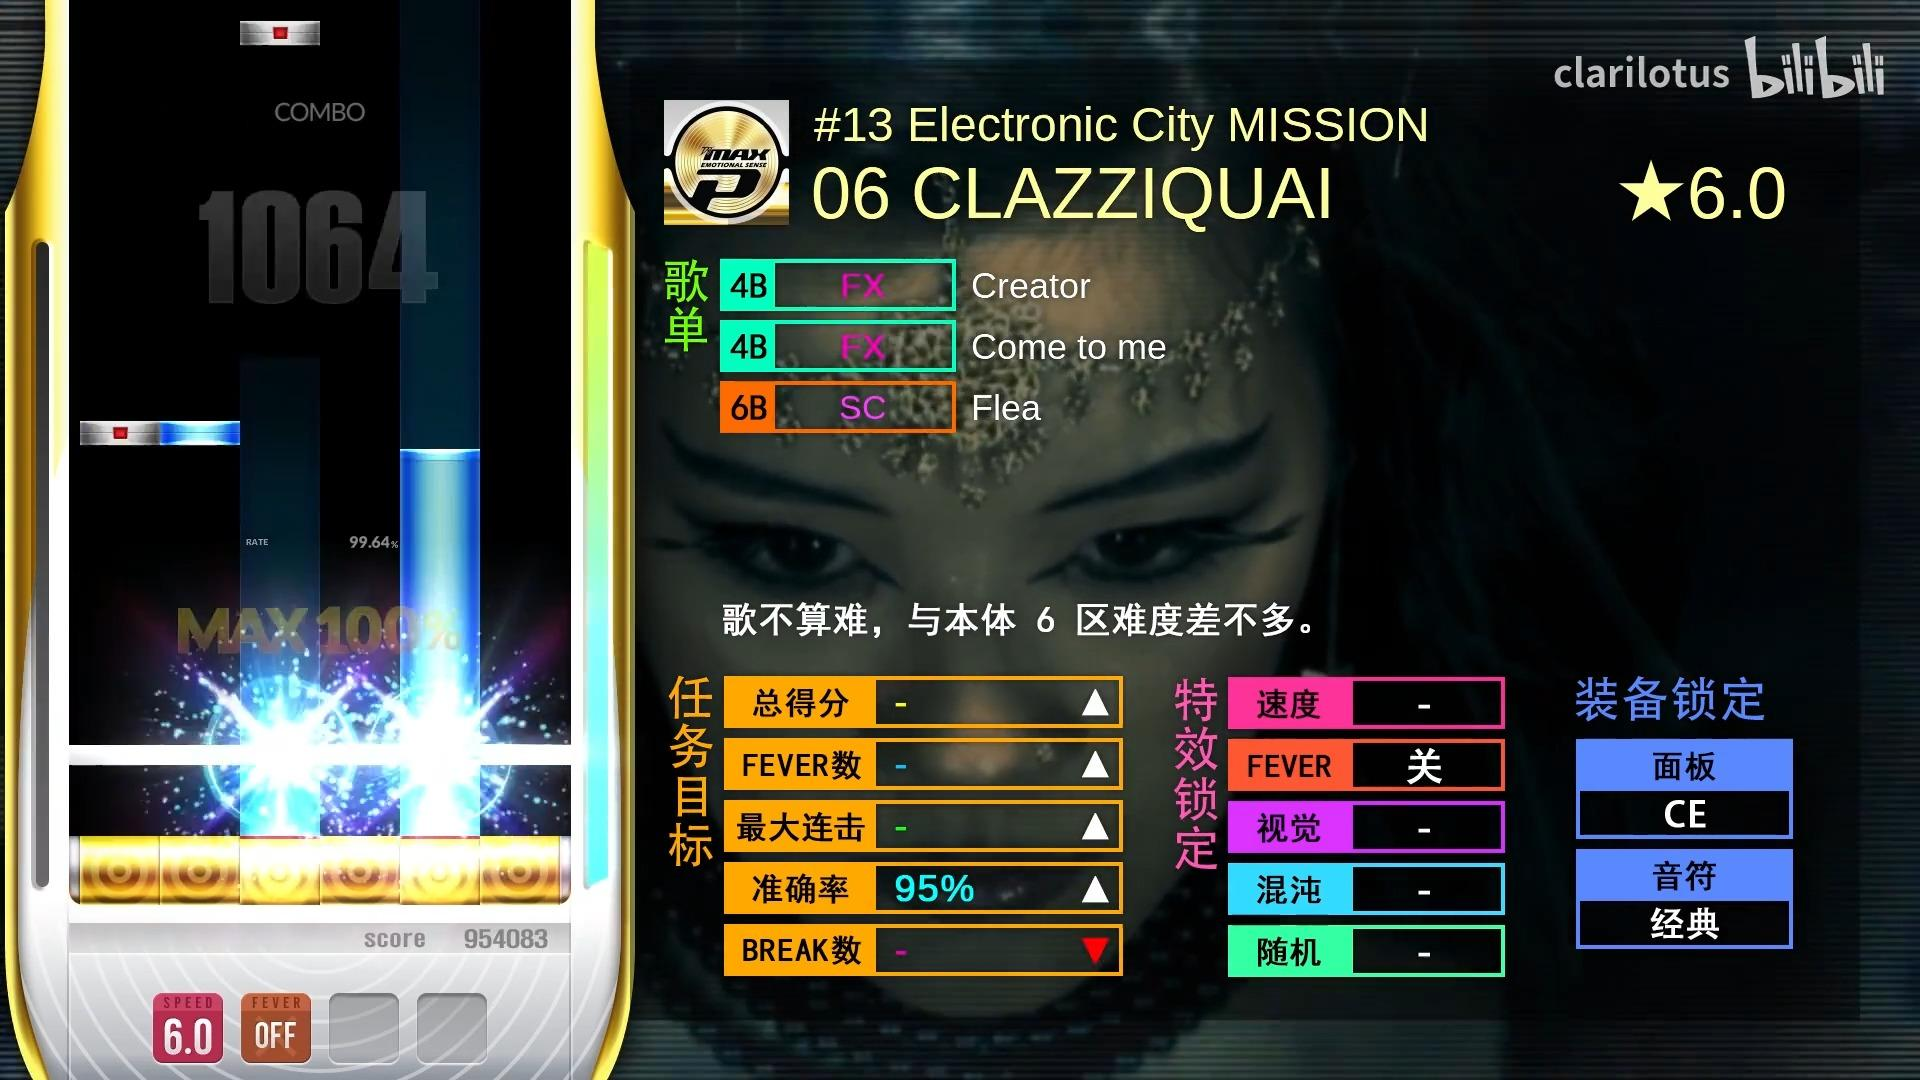hold-end: (400, 448, 480, 472)
note: (162, 419, 240, 446), (241, 21, 320, 46), (80, 422, 160, 446)
